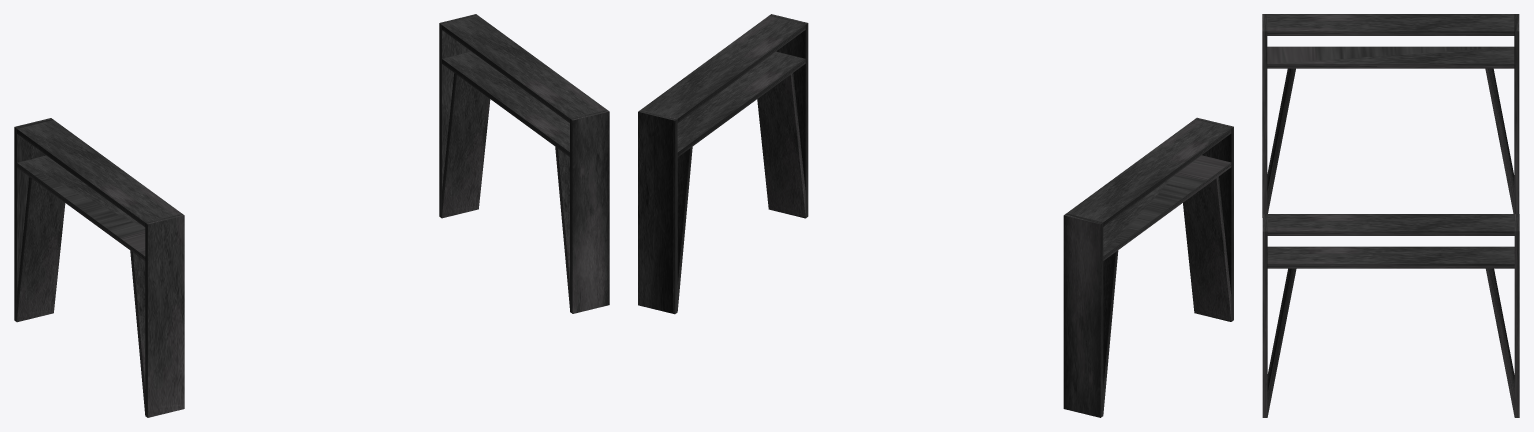
The model's file is pieds_table_basse_2.glb.
3 views of the same model, side by side, from view 1: azimuth 30°, elevation 25°; view 2: azimuth 150°, elevation 25°; view 3: azimuth 270°, elevation 25° (orthographic). The views are drawn at different scales.
Parts seen in each view (by area): view 1: Cube.004, Cube, Cube.005, Cube.006, Cube.012, Cube.010, Cube.008, Cube.007, Cube.003, Cube.002, Cube.011, Cube.009; view 2: Cube.003, Cube.002, Cube.006, Cube.005, Cube.011, Cube.009, Cube.007, Cube.008, Cube, Cube.004, Cube.012, Cube.010; view 3: Cube.008, Cube.007, Cube.006, Cube.005, Cube.002, Cube, Cube.004, Cube.003, Cube.009, Cube.010, Cube.012, Cube.011.
Part boxes in pixels (left/top/right/bottom): Cube.004: left=145, top=213, right=184, bottom=417; Cube: left=570, top=109, right=609, bottom=313; Cube.005: left=17, top=120, right=181, bottom=226; Cube.006: left=442, top=16, right=606, bottom=122; Cube.012: left=442, top=73, right=490, bottom=218; Cube.010: left=17, top=177, right=65, bottom=322; Cube.008: left=17, top=155, right=145, bottom=260; Cube.007: left=442, top=51, right=569, bottom=156; Cube.003: left=14, top=118, right=53, bottom=321; Cube.002: left=439, top=14, right=478, bottom=218; Cube.011: left=130, top=250, right=145, bottom=414; Cube.009: left=555, top=147, right=569, bottom=307; Cube.003: left=1063, top=213, right=1103, bottom=417; Cube.002: left=638, top=110, right=677, bottom=314; Cube.006: left=641, top=16, right=805, bottom=123; Cube.005: left=1066, top=119, right=1231, bottom=226; Cube.011: left=1183, top=176, right=1231, bottom=320; Cube.009: left=757, top=73, right=805, bottom=217; Cube.007: left=677, top=51, right=805, bottom=156; Cube.008: left=1103, top=155, right=1231, bottom=260; Cube: left=768, top=14, right=808, bottom=218; Cube.004: left=1194, top=117, right=1233, bottom=321; Cube.012: left=677, top=147, right=692, bottom=310; Cube.010: left=1103, top=250, right=1118, bottom=413; Cube.008: left=1267, top=46, right=1514, bottom=68; Cube.007: left=1267, top=246, right=1514, bottom=268; Cube.006: left=1267, top=214, right=1514, bottom=235; Cube.005: left=1267, top=14, right=1514, bottom=35; Cube.002: left=1514, top=214, right=1519, bottom=417; Cube: left=1262, top=214, right=1267, bottom=417; Cube.004: left=1262, top=14, right=1267, bottom=217; Cube.003: left=1514, top=14, right=1519, bottom=213; Cube.009: left=1267, top=268, right=1296, bottom=416; Cube.010: left=1485, top=68, right=1514, bottom=213; Cube.012: left=1486, top=268, right=1514, bottom=416; Cube.011: left=1267, top=68, right=1295, bottom=213.
Bounding box in the file's own units: 1 × 0.4 × 0.5009.
12 materials, 12 textured.
